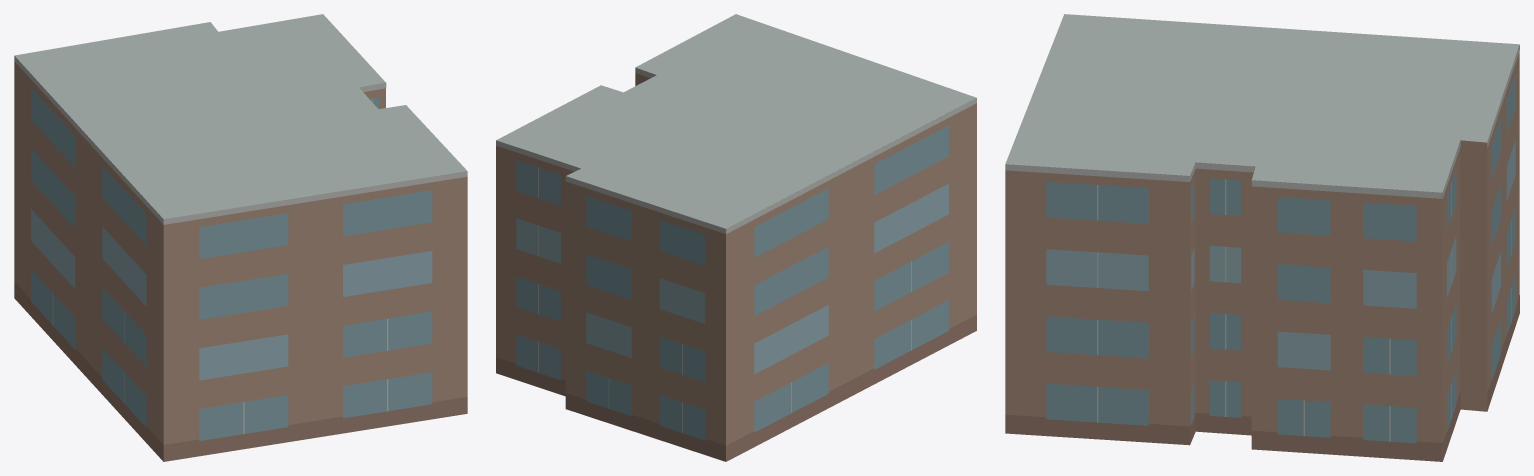
File: survey-upis-32658079.glb
3 views of the same model, side by side, from view 1: azimuth 30°, elevation 25°; view 2: azimuth 150°, elevation 25°; view 3: azimuth 270°, elevation 25° (orthographic). The views are drawn at different scales.
Parts seen in each view (by area): view 1: survey-upis-32658079.tmp; view 2: survey-upis-32658079.tmp; view 3: survey-upis-32658079.tmp.
Boxes of the visible parts, left/top/right/bottom form: survey-upis-32658079.tmp: left=14, top=14, right=467, bottom=461; survey-upis-32658079.tmp: left=496, top=14, right=976, bottom=461; survey-upis-32658079.tmp: left=1005, top=14, right=1519, bottom=461.
Size of the model in its own units: 15.17 by 10.65 by 18.46.
